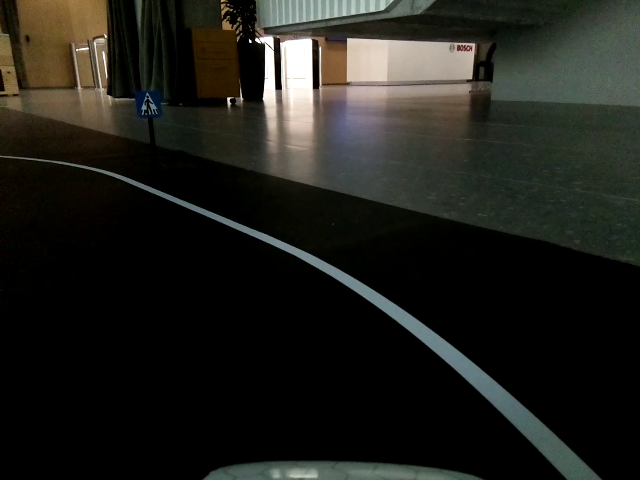pedestrians: (135, 92, 164, 118)
